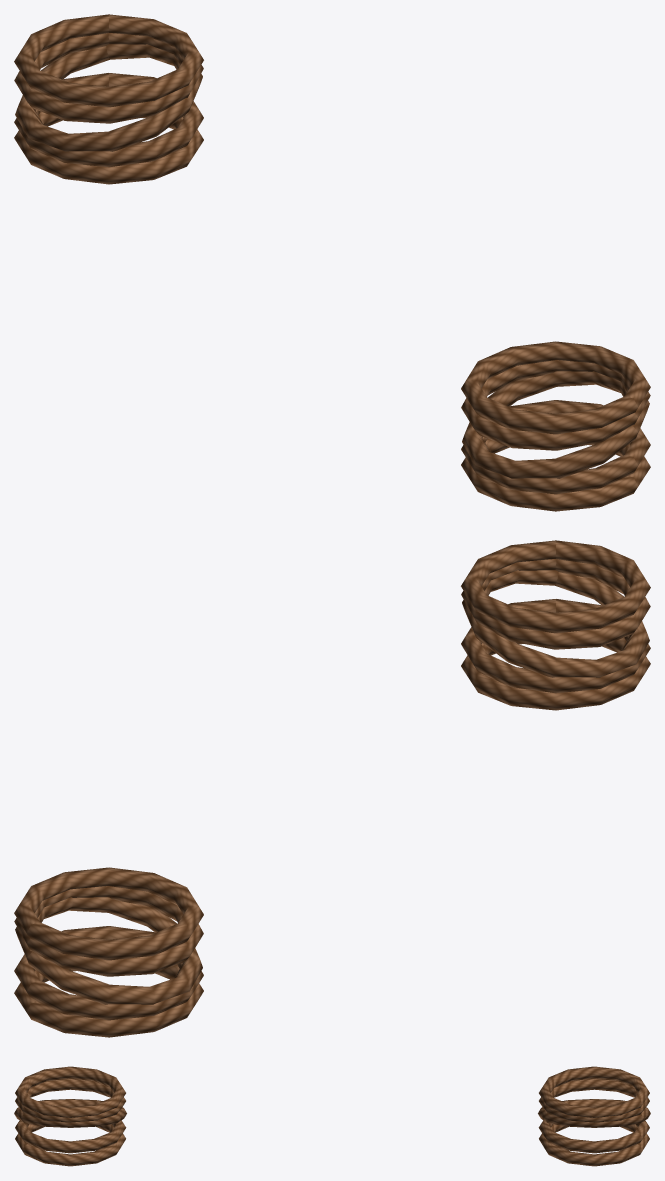
The model's file is Cordas_Pier_B.fbx.
The picture shows the model from 3 angles, top to bottom: view 1: azimuth 30°, elevation 25°; view 2: azimuth 150°, elevation 25°; view 3: azimuth 270°, elevation 25°; orthographic projection. The views are drawn at different scales.
Parts seen in each view (by area): view 1: Torus; view 2: Torus; view 3: Torus.
Boxes of the visible parts, box(x1,y1,x2,y2) form: Torus: box(14, 14, 650, 511); Torus: box(14, 540, 650, 1037); Torus: box(14, 1066, 650, 1166).
Bounding box in the file's own units: 92 × 51.39 × 526.
